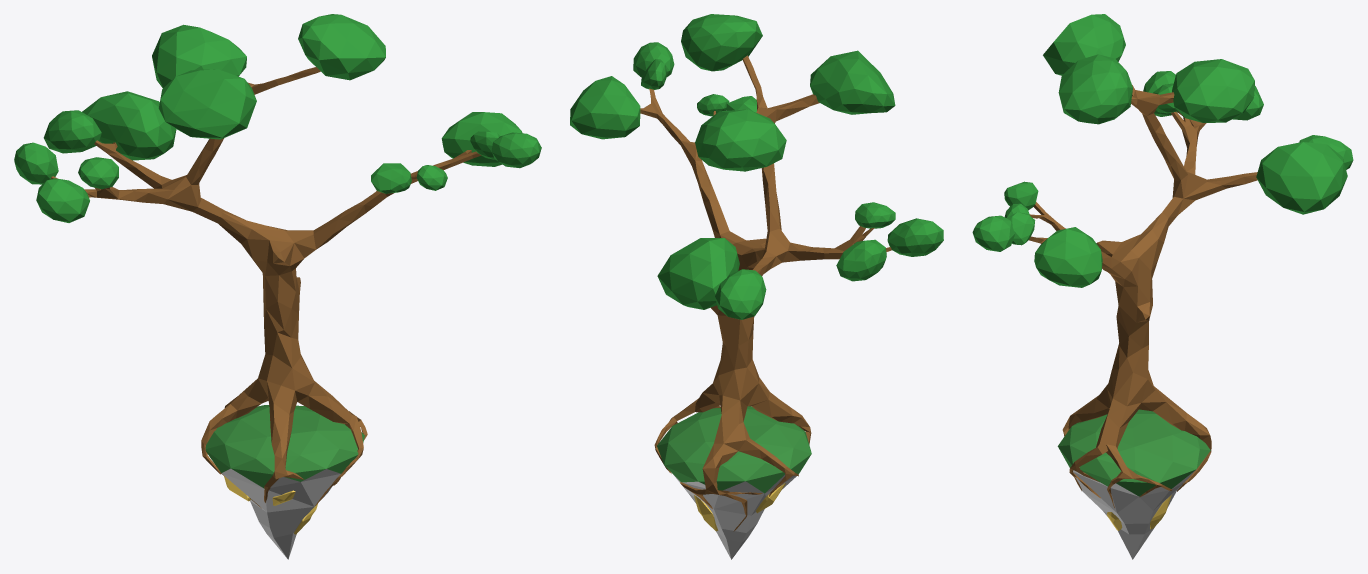
Rendered from island tree.fbx.
3 views of the same model, side by side, from view 1: azimuth 30°, elevation 25°; view 2: azimuth 150°, elevation 25°; view 3: azimuth 270°, elevation 25° (orthographic). The views are drawn at different scales.
Parts seen in each view (by area): view 1: Leaves, Tree, Island, Stones; view 2: Leaves, Tree, Island, Stones, Glowing_Crystals; view 3: Leaves, Tree, Island, Stones.
Part boxes in pixels (x1,y1,x2,y2): Leaves: [14, 14, 541, 222]; Tree: [51, 67, 481, 508]; Island: [205, 405, 364, 488]; Stones: [221, 468, 340, 559]; Leaves: [570, 14, 943, 319]; Tree: [640, 55, 891, 531]; Island: [657, 406, 811, 493]; Stones: [674, 475, 796, 559]; Glowing_Crystals: [694, 483, 785, 531]; Leaves: [972, 14, 1353, 287]; Tree: [1029, 85, 1257, 507]; Island: [1057, 409, 1210, 496]; Stones: [1073, 469, 1196, 559].
Size of the model in its own units: 92.98 by 113 by 76.83.
